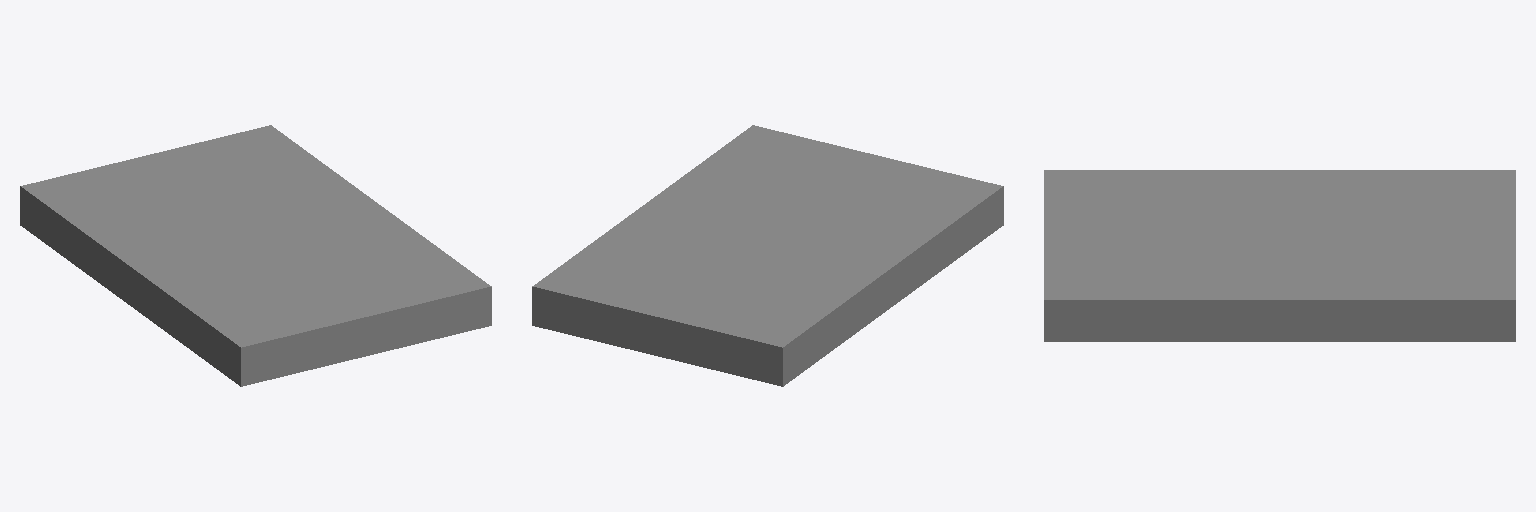
URDF robot description (mule):
<?xml version="1.0" ?>
<robot name="mule">

    <material name="grey">
        <color rgba="0.2 0.2 0.2 1.0"/>
    </material>
    
    <material name="aluminum">
        <color rgba="0.6 0.6 0.6 1.0"/>
    </material>
        <link name="left_front_wheel_link">
            <visual>
                <origin xyz="0 0 -0.127" rpy="0 0 1.5707963267948966"/>
                <geometry>
                  <mesh filename="https://raw.githubusercontent.com/Ranch-Hand-Robotics/babylon_ros/main/test/testdata/hf_wheel.stl"/>
                </geometry>
                <material name="grey"/>
            </visual>
            <collision>
                <origin xyz="0 0 0" rpy="0 1.5707963267948966 0"/>
                <geometry>
                  <cylinder radius="0.127" length="0.0889"/>
                </geometry>
            </collision>
        </link>
        <transmission name="left_front_wheel_trans">
            <type>transmission_interface/SimpleTransmission</type>
            <joint name="left_front_wheel">
                <hardwareInterface>hardware_interface/VelocityJointInterface</hardwareInterface>
            </joint>
            <actuator name="left_front_actuator">
                <mechanicalReduction>1</mechanicalReduction>
            </actuator>
        </transmission>
        <joint name="left_front_wheel" type="continuous">
            <parent link="base_link"/>
            <child link="left_front_wheel_link"/><origin xyz="0.33345 -0.2793999999999999 0" rpy="0 0 0"/>
            <axis xyz="0 1 0"/>
        </joint>
        <link name="left_mid_wheel_link">
            <visual>
                <origin xyz="0 0 -0.127" rpy="0 0 1.5707963267948966"/>
                <geometry>
                  <mesh filename="https://raw.githubusercontent.com/Ranch-Hand-Robotics/babylon_ros/main/test/testdata/hf_wheel.stl"/>
                </geometry>
                <material name="grey"/>
            </visual>
            <collision>
                <origin xyz="0 0 0" rpy="0 1.5707963267948966 0"/>
                <geometry>
                  <cylinder radius="0.127" length="0.0889"/>
                </geometry>
            </collision>
        </link>
        <transmission name="left_mid_wheel_trans">
            <type>transmission_interface/SimpleTransmission</type>
            <joint name="left_mid_wheel">
                <hardwareInterface>hardware_interface/VelocityJointInterface</hardwareInterface>
            </joint>
            <actuator name="left_mid_actuator">
                <mechanicalReduction>1</mechanicalReduction>
            </actuator>
        </transmission>
        <joint name="left_mid_wheel" type="continuous">
            <parent link="base_link"/>
            <child link="left_mid_wheel_link"/><origin xyz="0.33345 0.006350000000000022 0" rpy="0 0 0"/>
            <axis xyz="0 1 0"/>
        </joint>
        <link name="left_rear_wheel_link">
            <visual>
                <origin xyz="0 0 -0.127" rpy="0 0 1.5707963267948966"/>
                <geometry>
                  <mesh filename="https://raw.githubusercontent.com/Ranch-Hand-Robotics/babylon_ros/main/test/testdata/hf_wheel.stl"/>
                </geometry>
                <material name="grey"/>
            </visual>
            <collision>
                <origin xyz="0 0 0" rpy="0 1.5707963267948966 0"/>
                <geometry>
                  <cylinder radius="0.127" length="0.0889"/>
                </geometry>
            </collision>
        </link>
        <transmission name="left_rear_wheel_trans">
            <type>transmission_interface/SimpleTransmission</type>
            <joint name="left_rear_wheel">
                <hardwareInterface>hardware_interface/VelocityJointInterface</hardwareInterface>
            </joint>
            <actuator name="left_rear_actuator">
                <mechanicalReduction>1</mechanicalReduction>
            </actuator>
        </transmission>
        <joint name="left_rear_wheel" type="continuous">
            <parent link="base_link"/>
            <child link="left_rear_wheel_link"/><origin xyz="0.33345 0.2921 0" rpy="0 0 0"/>
            <axis xyz="0 1 0"/>
        </joint>
        <link name="right_front_wheel_link">
            <visual>
                <origin xyz="0 0 -0.127" rpy="0 0 1.5707963267948966"/>
                <geometry>
                  <mesh filename="https://raw.githubusercontent.com/Ranch-Hand-Robotics/babylon_ros/main/test/testdata/hf_wheel.stl"/>
                </geometry>
                <material name="grey"/>
            </visual>
            <collision>
                <origin xyz="0 0 0" rpy="0 1.5707963267948966 0"/>
                <geometry>
                  <cylinder radius="0.127" length="0.0889"/>
                </geometry>
            </collision>
        </link>
        <transmission name="right_front_wheel_trans">
            <type>transmission_interface/SimpleTransmission</type>
            <joint name="right_front_wheel">
                <hardwareInterface>hardware_interface/VelocityJointInterface</hardwareInterface>
            </joint>
            <actuator name="right_front_actuator">
                <mechanicalReduction>1</mechanicalReduction>
            </actuator>
        </transmission>
        <joint name="right_front_wheel" type="continuous">
            <parent link="base_link"/>
            <child link="right_front_wheel_link"/><origin xyz="-0.33345 -0.2793999999999999 0" rpy="0 0 3.1415926535897931"/>
            <axis xyz="0 1 0"/>
        </joint>
        <link name="right_mid_wheel_link">
            <visual>
                <origin xyz="0 0 -0.127" rpy="0 0 1.5707963267948966"/>
                <geometry>
                  <mesh filename="https://raw.githubusercontent.com/Ranch-Hand-Robotics/babylon_ros/main/test/testdata/hf_wheel.stl"/>
                </geometry>
                <material name="grey"/>
            </visual>
            <collision>
                <origin xyz="0 0 0" rpy="0 1.5707963267948966 0"/>
                <geometry>
                  <cylinder radius="0.127" length="0.0889"/>
                </geometry>
            </collision>
        </link>
        <transmission name="right_mid_wheel_trans">
            <type>transmission_interface/SimpleTransmission</type>
            <joint name="right_mid_wheel">
                <hardwareInterface>hardware_interface/VelocityJointInterface</hardwareInterface>
            </joint>
            <actuator name="right_mid_actuator">
                <mechanicalReduction>1</mechanicalReduction>
            </actuator>
        </transmission>
        <joint name="right_mid_wheel" type="continuous">
            <parent link="base_link"/>
            <child link="right_mid_wheel_link"/><origin xyz="-0.33345 0.006350000000000022 0" rpy="0 0 3.1415926535897931"/>
            <axis xyz="0 1 0"/>
        </joint>
        <link name="right_rear_wheel_link">
            <visual>
                <origin xyz="0 0 -0.127" rpy="0 0 1.5707963267948966"/>
                <geometry>
                  <mesh filename="https://raw.githubusercontent.com/Ranch-Hand-Robotics/babylon_ros/main/test/testdata/hf_wheel.stl"/>
                </geometry>
                <material name="grey"/>
            </visual>
            <collision>
                <origin xyz="0 0 0" rpy="0 1.5707963267948966 0"/>
                <geometry>
                  <cylinder radius="0.127" length="0.0889"/>
                </geometry>
            </collision>
        </link>
        <transmission name="right_rear_wheel_trans">
            <type>transmission_interface/SimpleTransmission</type>
            <joint name="right_rear_wheel">
                <hardwareInterface>hardware_interface/VelocityJointInterface</hardwareInterface>
            </joint>
            <actuator name="right_rear_actuator">
                <mechanicalReduction>1</mechanicalReduction>
            </actuator>
        </transmission>
        <joint name="right_rear_wheel" type="continuous">
            <parent link="base_link"/>
            <child link="right_rear_wheel_link"/><origin xyz="-0.33345 0.2921 0" rpy="0 0 3.1415926535897931"/>
            <axis xyz="0 1 0"/>
        </joint>
    


  <link name="base_link">
    <visual>
      <origin xyz="0 0 0" rpy="0 0 0"/>
      <geometry>
        <box size="0.508 0.7747 0.0762"/>
      </geometry>
      <material name="aluminum"/>
    </visual>
    <collision>
      <origin xyz="0 0 0"/>
      <geometry>
        <box size="0.508 0.7747 0.0762"/>
      </geometry>
    </collision>
    <inertial>
      <origin xyz="0.254 0.38735 0.0381" rpy="0 0 0"/>
    </inertial>
  </link>
</robot>

--- Facts derived from the render (not from the file) ---
The picture shows the robot from 3 angles, left to right: view 1: azimuth 30°, elevation 25°; view 2: azimuth 150°, elevation 25°; view 3: azimuth 270°, elevation 25°; orthographic projection.
Model mule with 7 links and 6 joints (6 continuous), rooted at base_link, posed all joints at 0.
Visible links, largest first — view 1: base_link; view 2: base_link; view 3: base_link.
Link boxes in pixels (x1=…): base_link: x1=20, y1=125, x2=491, y2=386; base_link: x1=532, y1=125, x2=1003, y2=386; base_link: x1=1044, y1=170, x2=1515, y2=341.
Bounding box of the posed robot: 0.508 × 0.7747 × 0.0762 m (x, y, z).
Geometry: only primitive shapes (box / cylinder / sphere) drawn; not drawn: 6 mesh visuals (reference in a form the renderer does not follow).